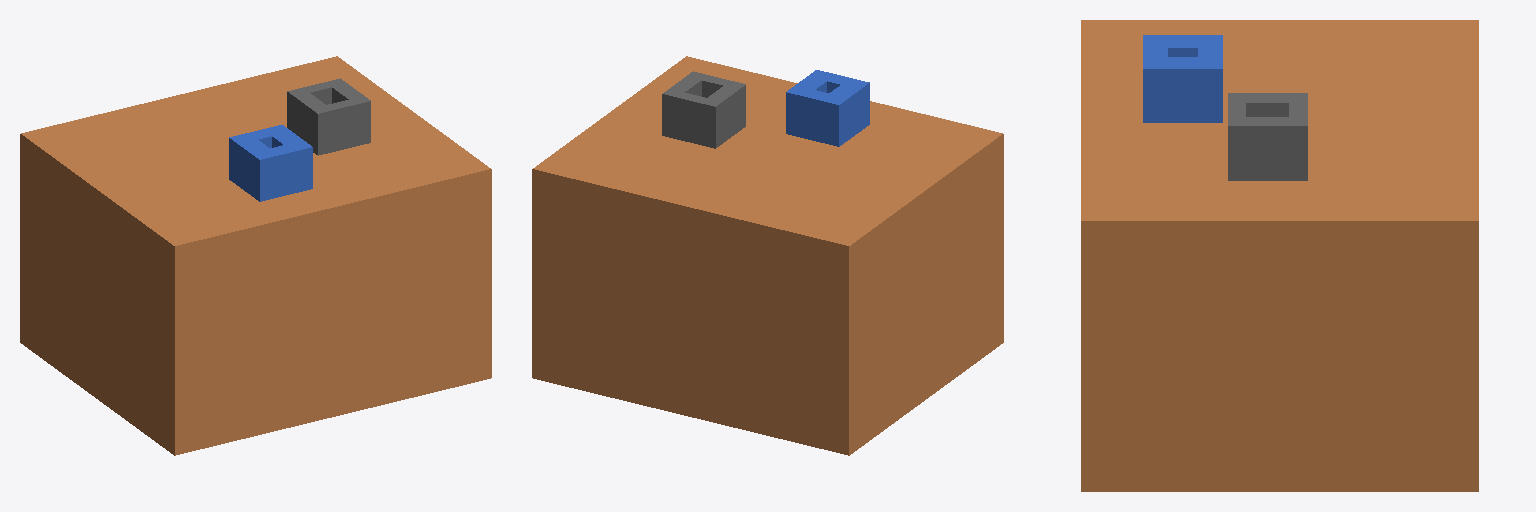
URDF robot description (peg_in_hole_fixtured_scene_0023_peg0007_tol03):
<?xml version="1.0"?>
<robot name="peg_in_hole_fixtured_scene_0023_peg0007_tol03">
  <material name="wood"><color rgba="0.82 0.56 0.35 1.0"/></material>
  <material name="start_fix"><color rgba="0.30 0.50 0.85 1.0"/></material>
  <material name="goal_fix"><color rgba="0.4706 0.4706 0.4706 1.0"/></material>
  <link name="box">
    <visual>
      <origin xyz="0.000000 0.000000 0.000000" rpy="0 0 0"/>
      <geometry><box size="0.475000 0.400000 0.300000"/></geometry>
      <material name="wood"/>
    </visual>
    <collision>
      <origin xyz="0.000000 0.000000 0.000000" rpy="0 0 0"/>
      <geometry><box size="0.475000 0.400000 0.300000"/></geometry>
    </collision>
    <visual>
      <origin xyz="-0.033658 -0.097334 0.155000" rpy="0 0 0"/>
      <geometry><box size="0.080000 0.080000 0.010000"/></geometry>
      <material name="start_fix"/>
    </visual>
    <collision>
      <origin xyz="-0.033658 -0.097334 0.155000" rpy="0 0 0"/>
      <geometry><box size="0.080000 0.080000 0.010000"/></geometry>
    </collision>
    <visual>
      <origin xyz="-0.008408 -0.097334 0.185000" rpy="0 0 0"/>
      <geometry><box size="0.029500 0.080000 0.050000"/></geometry>
      <material name="start_fix"/>
    </visual>
    <collision>
      <origin xyz="-0.008408 -0.097334 0.185000" rpy="0 0 0"/>
      <geometry><box size="0.029500 0.080000 0.050000"/></geometry>
    </collision>
    <visual>
      <origin xyz="-0.058908 -0.097334 0.185000" rpy="0 0 0"/>
      <geometry><box size="0.029500 0.080000 0.050000"/></geometry>
      <material name="start_fix"/>
    </visual>
    <collision>
      <origin xyz="-0.058908 -0.097334 0.185000" rpy="0 0 0"/>
      <geometry><box size="0.029500 0.080000 0.050000"/></geometry>
    </collision>
    <visual>
      <origin xyz="-0.033658 -0.069584 0.185000" rpy="0 0 0"/>
      <geometry><box size="0.021000 0.024500 0.050000"/></geometry>
      <material name="start_fix"/>
    </visual>
    <collision>
      <origin xyz="-0.033658 -0.069584 0.185000" rpy="0 0 0"/>
      <geometry><box size="0.021000 0.024500 0.050000"/></geometry>
    </collision>
    <visual>
      <origin xyz="-0.033658 -0.125084 0.185000" rpy="0 0 0"/>
      <geometry><box size="0.021000 0.024500 0.050000"/></geometry>
      <material name="start_fix"/>
    </visual>
    <collision>
      <origin xyz="-0.033658 -0.125084 0.185000" rpy="0 0 0"/>
      <geometry><box size="0.021000 0.024500 0.050000"/></geometry>
    </collision>
    <visual>
      <origin xyz="0.102628 -0.012402 0.155000" rpy="0 0 0"/>
      <geometry><box size="0.080000 0.080000 0.010000"/></geometry>
      <material name="goal_fix"/>
    </visual>
    <collision>
      <origin xyz="0.102628 -0.012402 0.155000" rpy="0 0 0"/>
      <geometry><box size="0.080000 0.080000 0.010000"/></geometry>
    </collision>
    <visual>
      <origin xyz="0.130974 -0.012402 0.185000" rpy="0 0 0"/>
      <geometry><box size="0.023309 0.080000 0.050000"/></geometry>
      <material name="goal_fix"/>
    </visual>
    <collision>
      <origin xyz="0.130974 -0.012402 0.185000" rpy="0 0 0"/>
      <geometry><box size="0.023309 0.080000 0.050000"/></geometry>
    </collision>
    <visual>
      <origin xyz="0.074283 -0.012402 0.185000" rpy="0 0 0"/>
      <geometry><box size="0.023309 0.080000 0.050000"/></geometry>
      <material name="goal_fix"/>
    </visual>
    <collision>
      <origin xyz="0.074283 -0.012402 0.185000" rpy="0 0 0"/>
      <geometry><box size="0.023309 0.080000 0.050000"/></geometry>
    </collision>
    <visual>
      <origin xyz="0.102628 0.018444 0.185000" rpy="0 0 0"/>
      <geometry><box size="0.033383 0.018309 0.050000"/></geometry>
      <material name="goal_fix"/>
    </visual>
    <collision>
      <origin xyz="0.102628 0.018444 0.185000" rpy="0 0 0"/>
      <geometry><box size="0.033383 0.018309 0.050000"/></geometry>
    </collision>
    <visual>
      <origin xyz="0.102628 -0.043247 0.185000" rpy="0 0 0"/>
      <geometry><box size="0.033383 0.018309 0.050000"/></geometry>
      <material name="goal_fix"/>
    </visual>
    <collision>
      <origin xyz="0.102628 -0.043247 0.185000" rpy="0 0 0"/>
      <geometry><box size="0.033383 0.018309 0.050000"/></geometry>
    </collision>
    <inertial>
      <mass value="500"/>
      <friction value="1.0"/>
      <inertia ixx="1000.0" ixy="0.0" ixz="0.0" iyy="1000.0" iyz="0.0" izz="1000.0"/>
    </inertial>
  </link>
</robot>

--- Facts derived from the render (not from the file) ---
3 views of the same robot in one strip: view 1: azimuth 30°, elevation 25°; view 2: azimuth 150°, elevation 25°; view 3: azimuth 270°, elevation 25° (orthographic).
Model peg_in_hole_fixtured_scene_0023_peg0007_tol03 with 1 links and 0 joints (none), rooted at box, posed all joints at 0.
Links seen in each view (by area): view 1: box; view 2: box; view 3: box.
Link boxes in pixels (x1,y1,x2,y2): box: (20, 56, 491, 455); box: (532, 56, 1003, 455); box: (1081, 20, 1478, 491).
Bounding box of the posed robot: 0.475 × 0.4 × 0.36 m (x, y, z).
Geometry: primitives only (box / cylinder / sphere), no mesh files.
